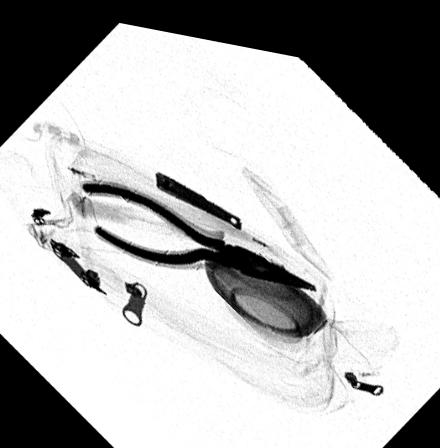Pliers: (81, 181, 316, 277)
